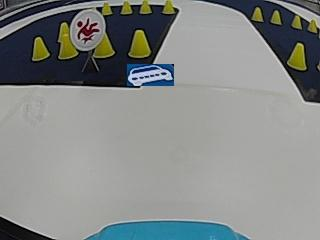cone: (128, 28, 151, 59), (286, 41, 307, 71), (94, 34, 116, 59), (57, 34, 77, 59), (31, 36, 48, 61), (162, 0, 175, 15), (251, 6, 263, 22), (139, 0, 151, 15), (120, 0, 132, 15), (270, 10, 281, 25), (101, 1, 112, 15), (291, 14, 301, 29), (308, 18, 316, 33)
tumble: (73, 12, 102, 45)
